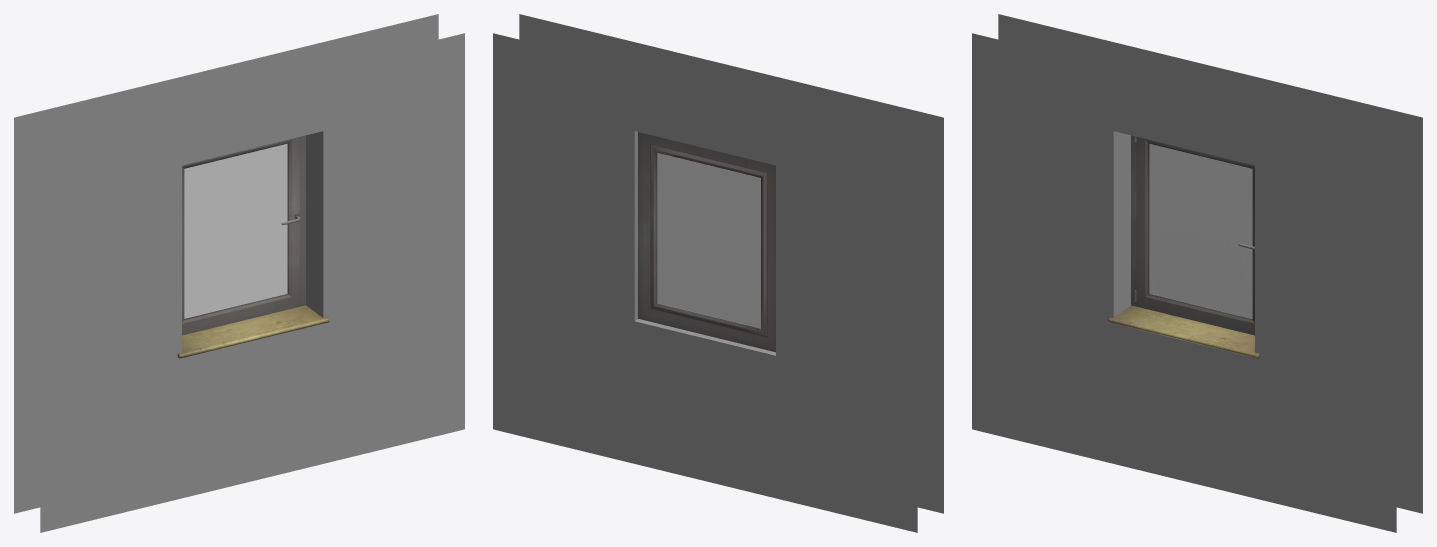
Rendered from Window_Component_BI_Weight_Paint2.obj.
3 views of the same model, side by side, from view 1: azimuth 30°, elevation 25°; view 2: azimuth 150°, elevation 25°; view 3: azimuth 330°, elevation 25° (orthographic).
Parts seen in each view (by area): view 1: Plane.004_Plane.010, Plane.002, Plane, Plane.001; view 2: Plane.004_Plane.010, Plane.002, Plane.001, Plane; view 3: Plane.004_Plane.010, Plane.002, Plane, Plane.001.
Boxes of the visible parts, x1,y1,x2,y2 form: Plane.004_Plane.010: (14,14,464,532); Plane.002: (184,143,287,318); Plane: (182,136,300,333); Plane.001: (177,135,329,358); Plane.004_Plane.010: (493,14,943,532); Plane.002: (657,153,760,328); Plane.001: (638,132,775,352); Plane: (651,145,766,336); Plane.004_Plane.010: (972,14,1422,532); Plane.002: (1149,143,1252,318); Plane: (1134,136,1254,333); Plane.001: (1107,135,1259,358).
Bounding box in the file's own units: 2.8 × 2.5 × 0.32.
